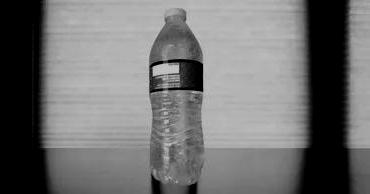bottle: (146, 6, 209, 190)
